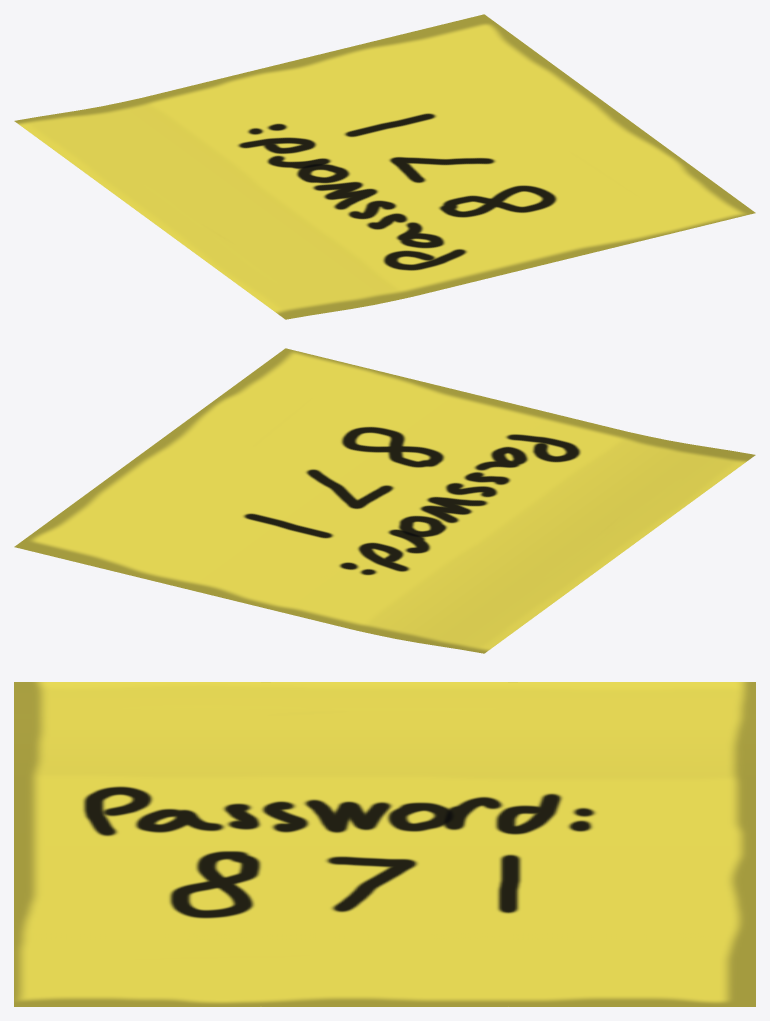
The model's file is sticky note object.fbx.
3 views of the same model, one above another, from view 1: azimuth 30°, elevation 25°; view 2: azimuth 150°, elevation 25°; view 3: azimuth 270°, elevation 25° (orthographic). The views are drawn at different scales.
Visible parts, largest first — view 1: Plane; view 2: Plane; view 3: Plane.
Boxes of the visible parts, x1,y1,x2,y2 form: Plane: [14, 14, 755, 319]; Plane: [14, 348, 755, 653]; Plane: [14, 682, 755, 1006].
Bounding box in the file's own units: 200 × 3.3 × 200.
Materials: 1 (1 with a texture image).
